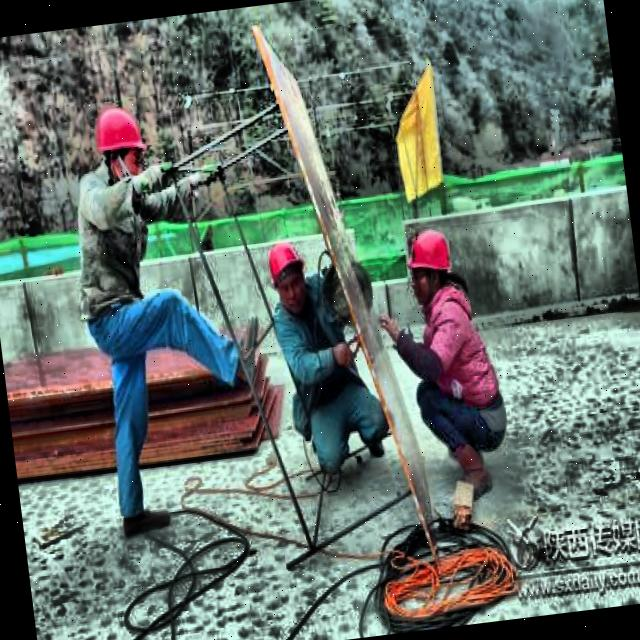helmet: (399, 218, 464, 320), (87, 99, 152, 188), (266, 238, 310, 311)
